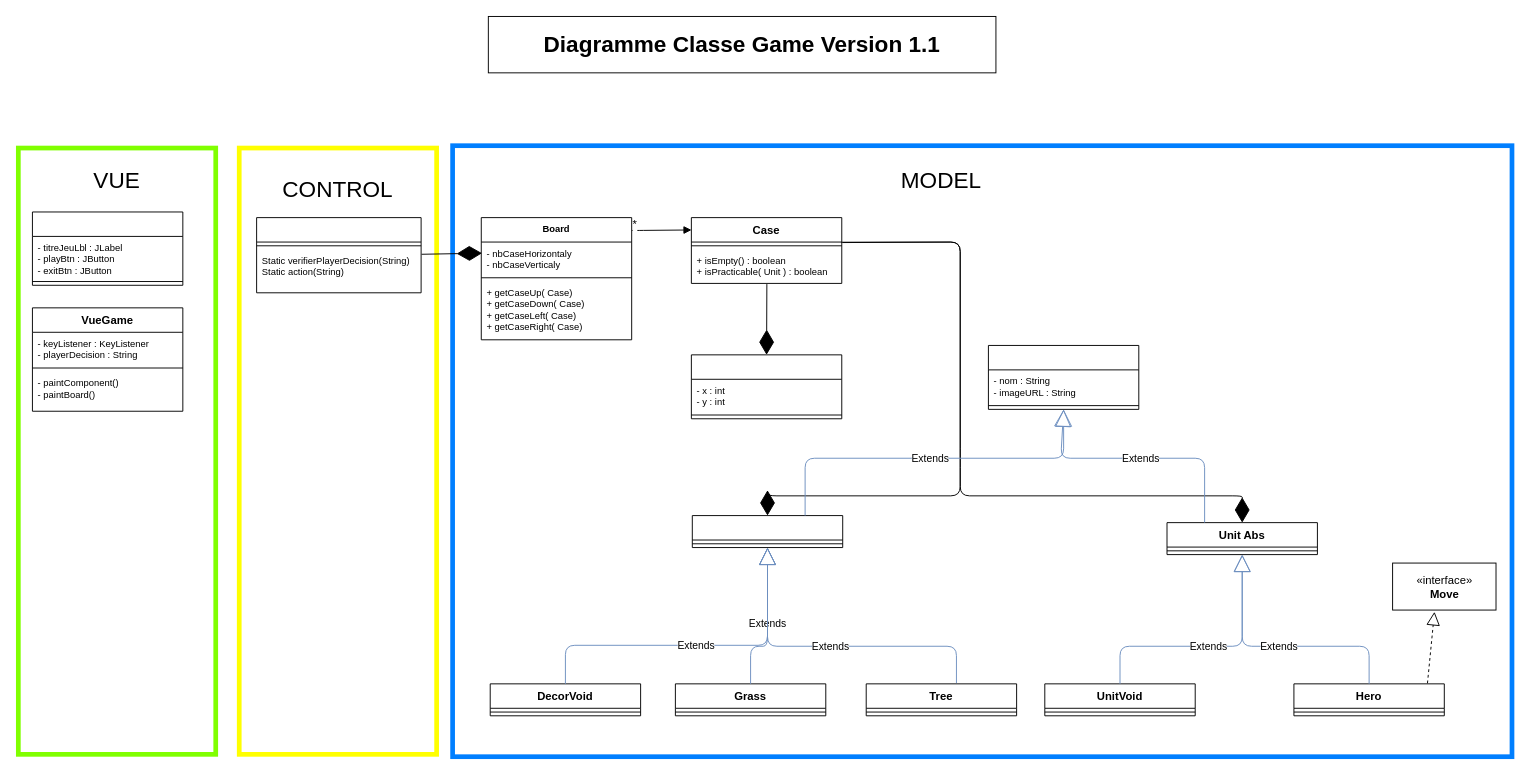
The diagram is 1530 pixels wide and 776 high, and some of its shapes have lost their labels. Each missing label, with the box of its shape:
Control Static: (256, 217, 421, 293)
Coordonnee: (690, 354, 842, 419)
Decor Abs: (691, 515, 843, 548)
Element Abs: (987, 345, 1139, 409)
VueMenuStart: (31, 211, 183, 285)
